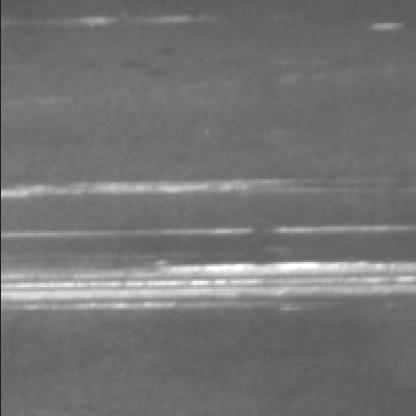scratches: (2, 250, 416, 322), (2, 175, 283, 206)
